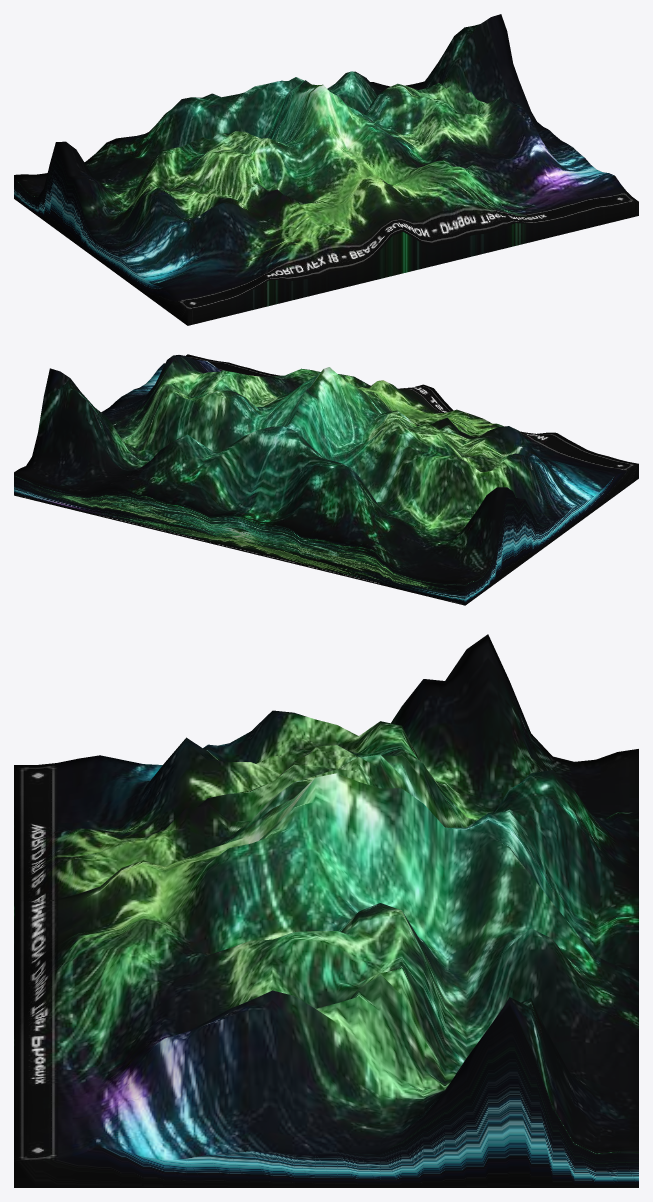
The model's file is WORLD_VFX_18_Beast_Summon.glb.
The picture shows the model from 3 angles, top to bottom: view 1: azimuth 30°, elevation 25°; view 2: azimuth 150°, elevation 25°; view 3: azimuth 270°, elevation 25°; orthographic projection. The views are drawn at different scales.
Parts seen in each view (by area): view 1: WORLD_VFX_18_Beast_Summon; view 2: WORLD_VFX_18_Beast_Summon; view 3: WORLD_VFX_18_Beast_Summon.
Part boxes in pixels (x1=…): WORLD_VFX_18_Beast_Summon: x1=14, y1=14, x2=638, y2=325; WORLD_VFX_18_Beast_Summon: x1=14, y1=354, x2=638, y2=605; WORLD_VFX_18_Beast_Summon: x1=14, y1=634, x2=638, y2=1187.
Size of the model in its own units: 2 by 0.51 by 1.33.
1 material, 1 textured.
